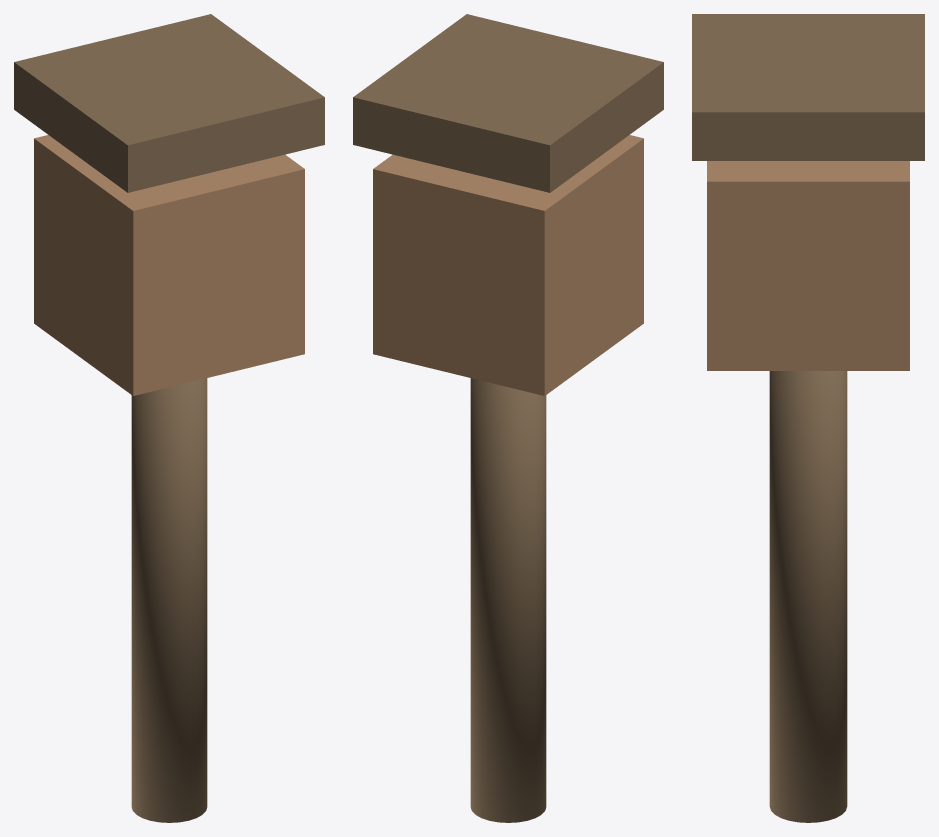
Rendered from light.path-old.glb.
3 views of the same model, side by side, from view 1: azimuth 30°, elevation 25°; view 2: azimuth 150°, elevation 25°; view 3: azimuth 270°, elevation 25° (orthographic). The views are drawn at different scales.
Parts seen in each view (by area): view 1: light pole; view 2: light pole; view 3: light pole.
Part boxes in pixels (x1=…): light pole: x1=14, y1=14, x2=324, y2=822; light pole: x1=353, y1=14, x2=663, y2=822; light pole: x1=692, y1=14, x2=924, y2=822.
Bounding box in the file's own units: 0.39 × 1.38 × 0.39.
